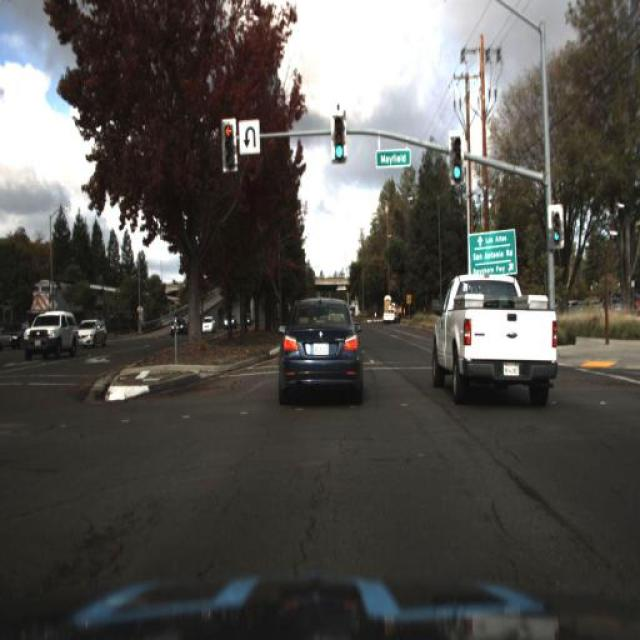car: (429, 264, 559, 410), (274, 293, 364, 408), (18, 303, 73, 357), (76, 319, 110, 350), (380, 294, 400, 324), (202, 308, 222, 336), (383, 292, 399, 322), (167, 314, 187, 337)
trafficLight-GreenLeft: (538, 208, 567, 268), (447, 134, 468, 197), (328, 120, 348, 180)
trafficLight-Yellow: (219, 117, 243, 188)
